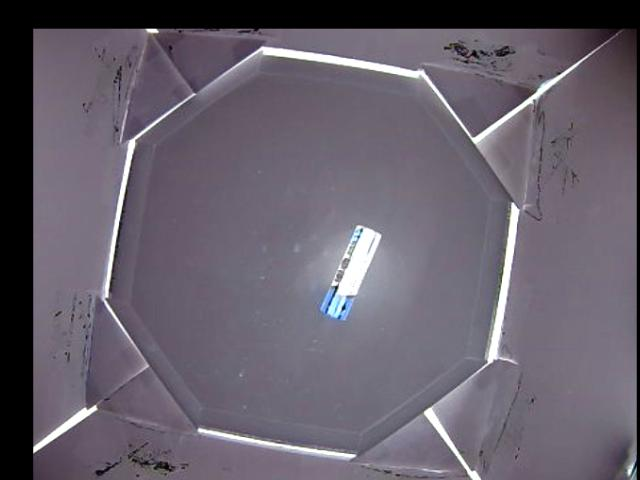Battery: (318, 225, 381, 321)
